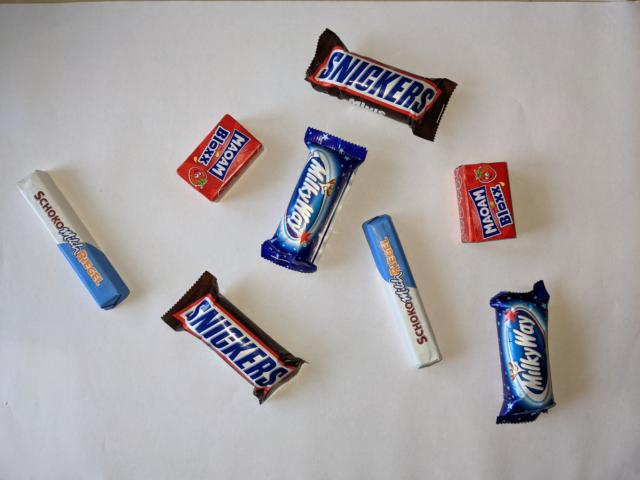MAOAM: (172, 112, 267, 206), (451, 159, 519, 246)
MilkyWay: (258, 125, 370, 275), (487, 278, 558, 427)
Schokoriegel: (10, 165, 133, 312), (359, 212, 445, 374)
Snickers: (157, 268, 313, 408), (301, 25, 462, 145)
